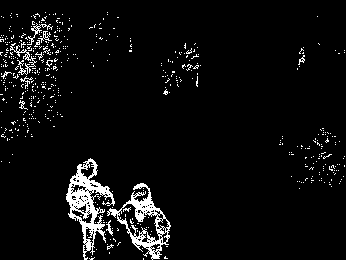person: (65, 157, 122, 260), (118, 182, 172, 260)
